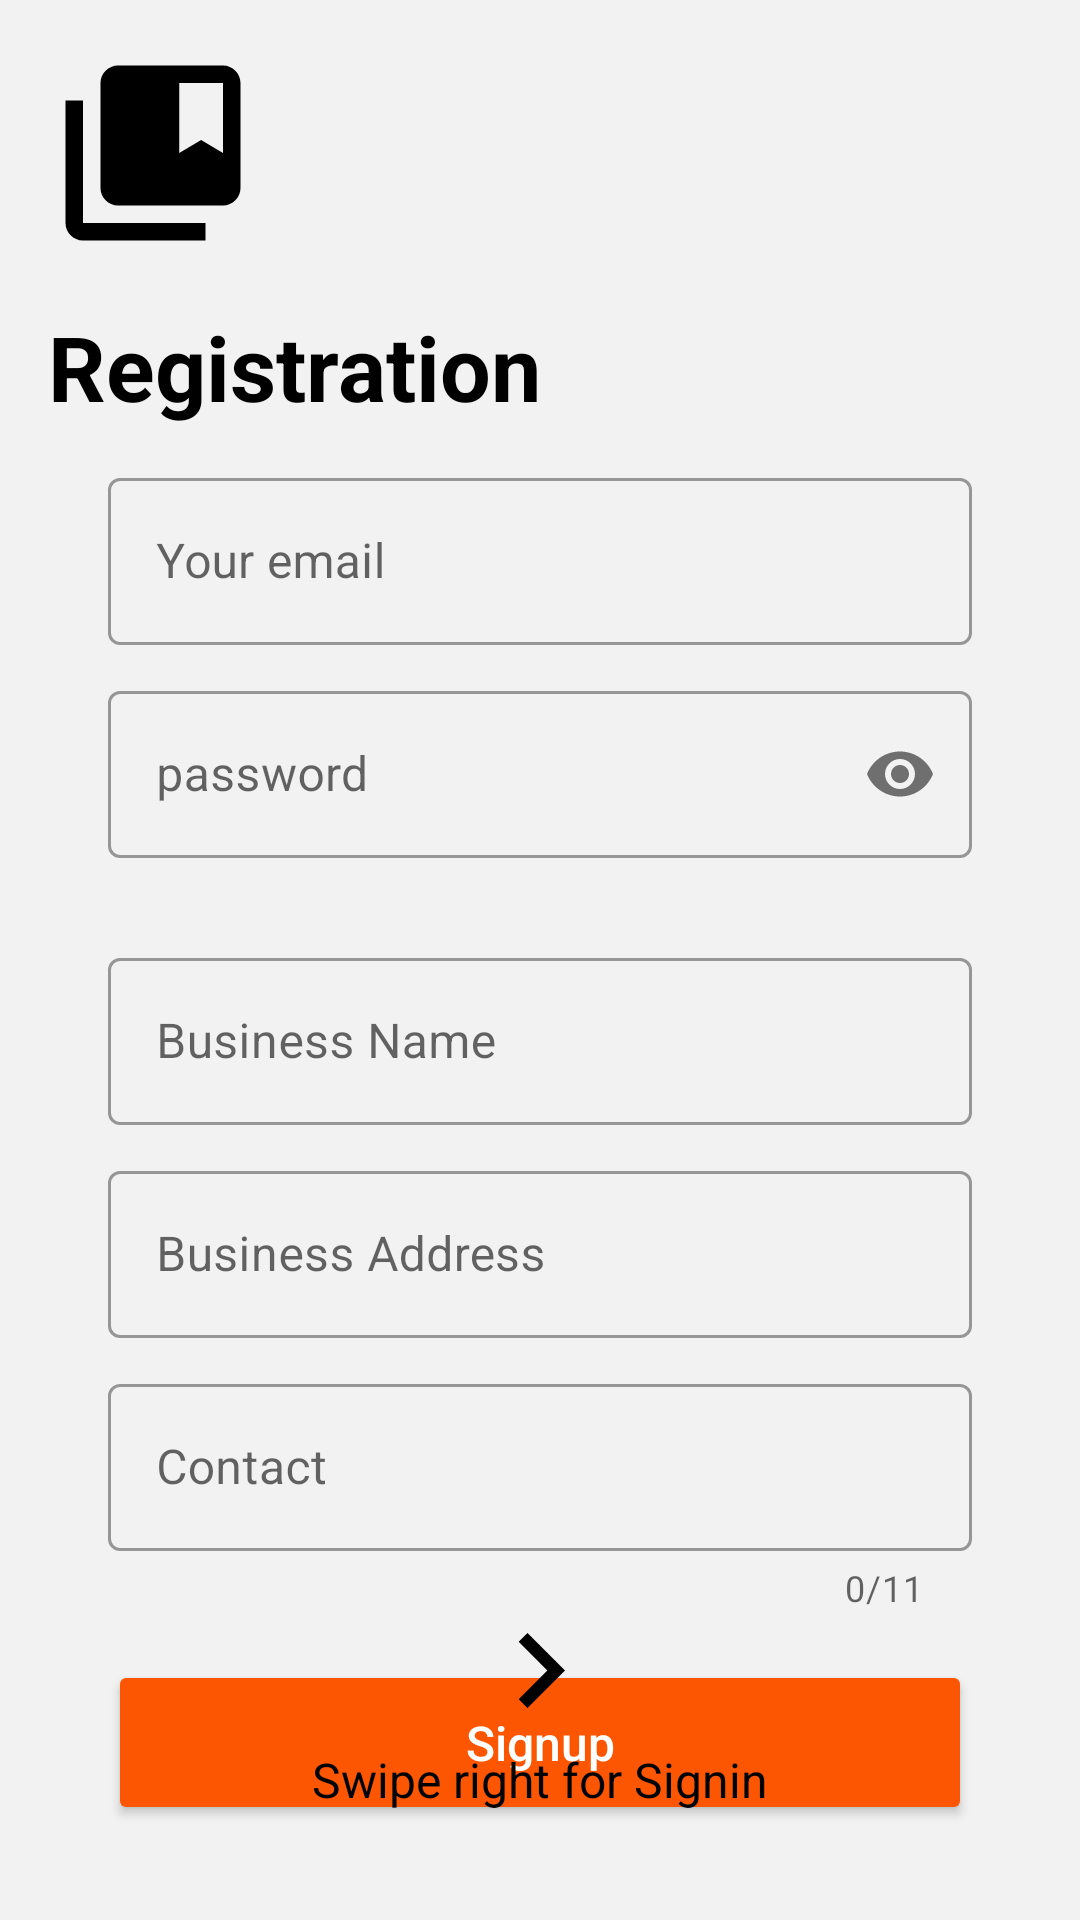

Screen size 1080px x 1920px. Icon name, then its center in pixels as (x=x, y=y):
collections bookmark: (x=153, y=153)
